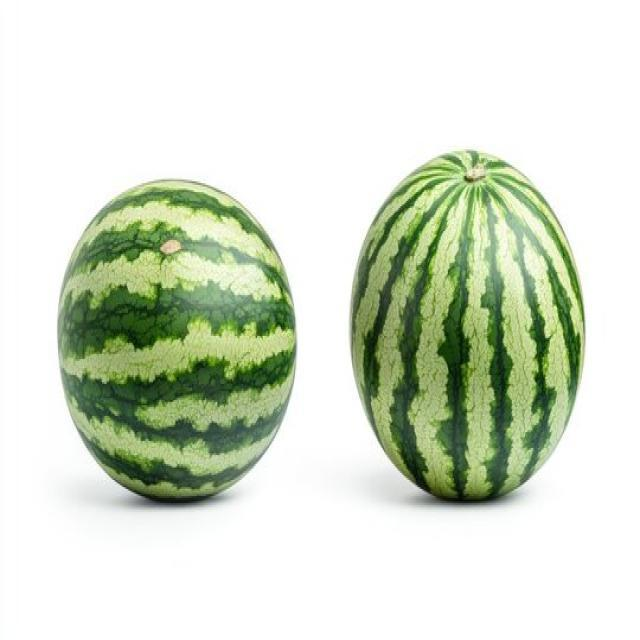Watermelon: (350, 153, 582, 496), (60, 185, 296, 495)
